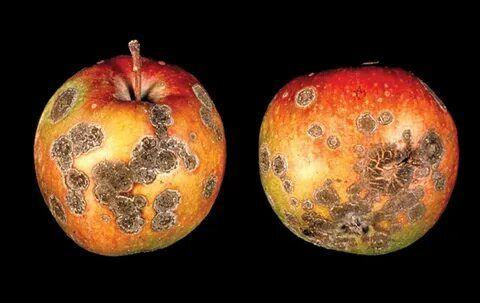Apple: (35, 56, 227, 253), (261, 67, 460, 252)
